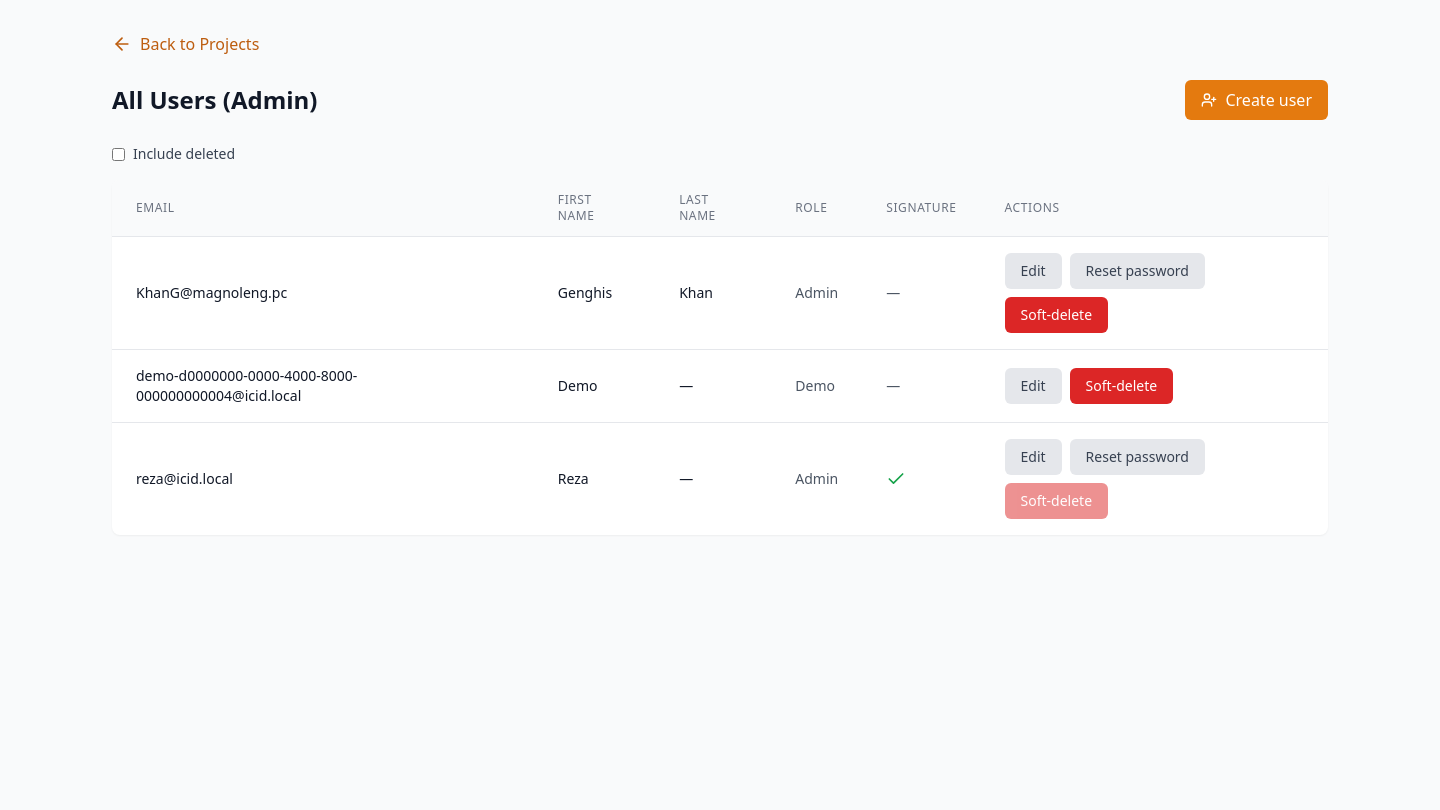
Test case: AdminUsersPage — editing a user › turns the admin box off on the admin's own row, and leaves it on for another admin's
Click the button "Edit" in the row of "reza@icid.local". click: [1033, 457]
box: [1004,439,1062,475]
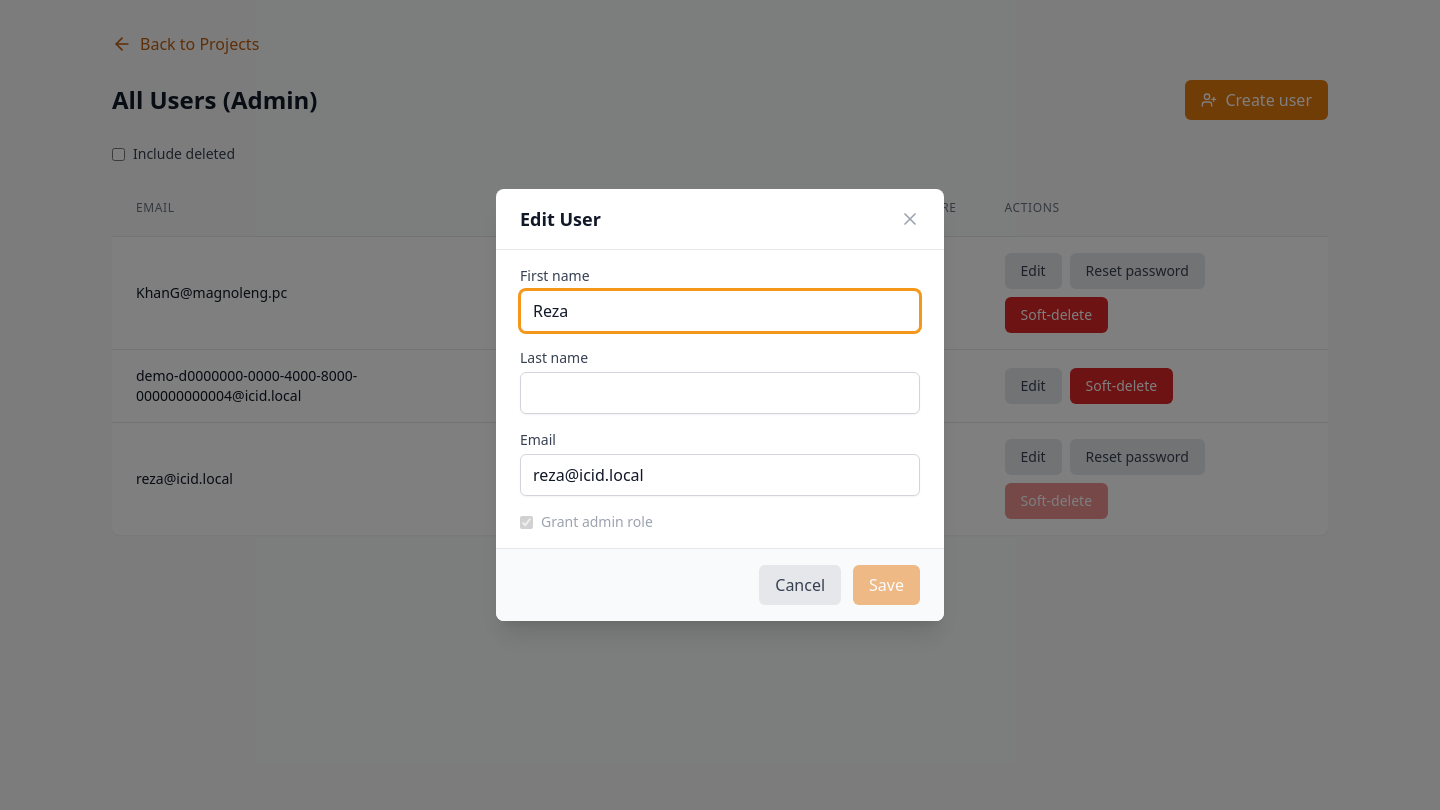
Expected: the checkbox labelled "Grant admin role" is checked, [520,516,533,528]
Expected: the checkbox labelled "Grant admin role" is disabled, [520,516,533,528]
Click the button "Cancel". click: [800, 585]
box: [759,565,841,605]
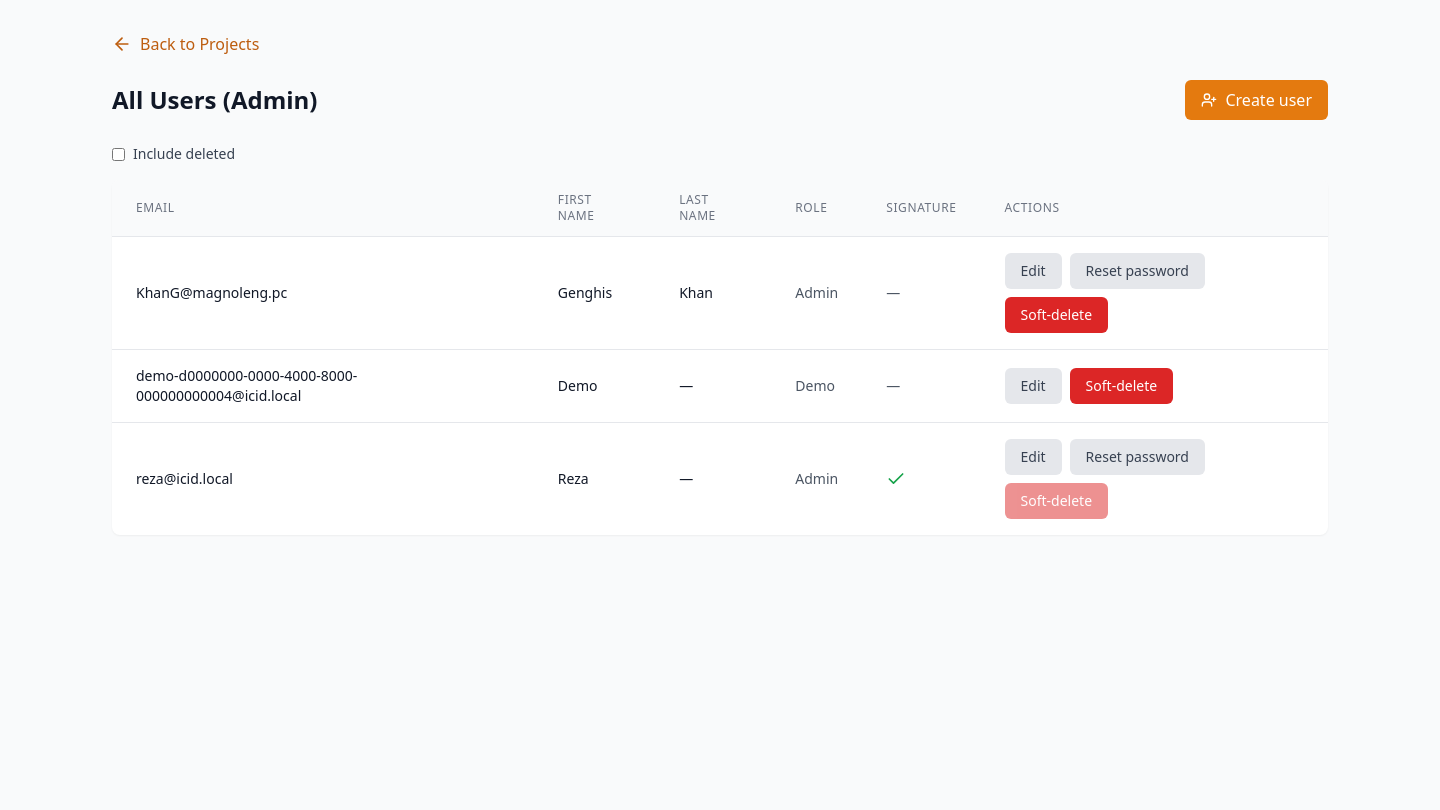
Click the button "Edit" in the row of "KhanG@magnoleng.pc". click: [1033, 271]
box: [1004,253,1062,289]
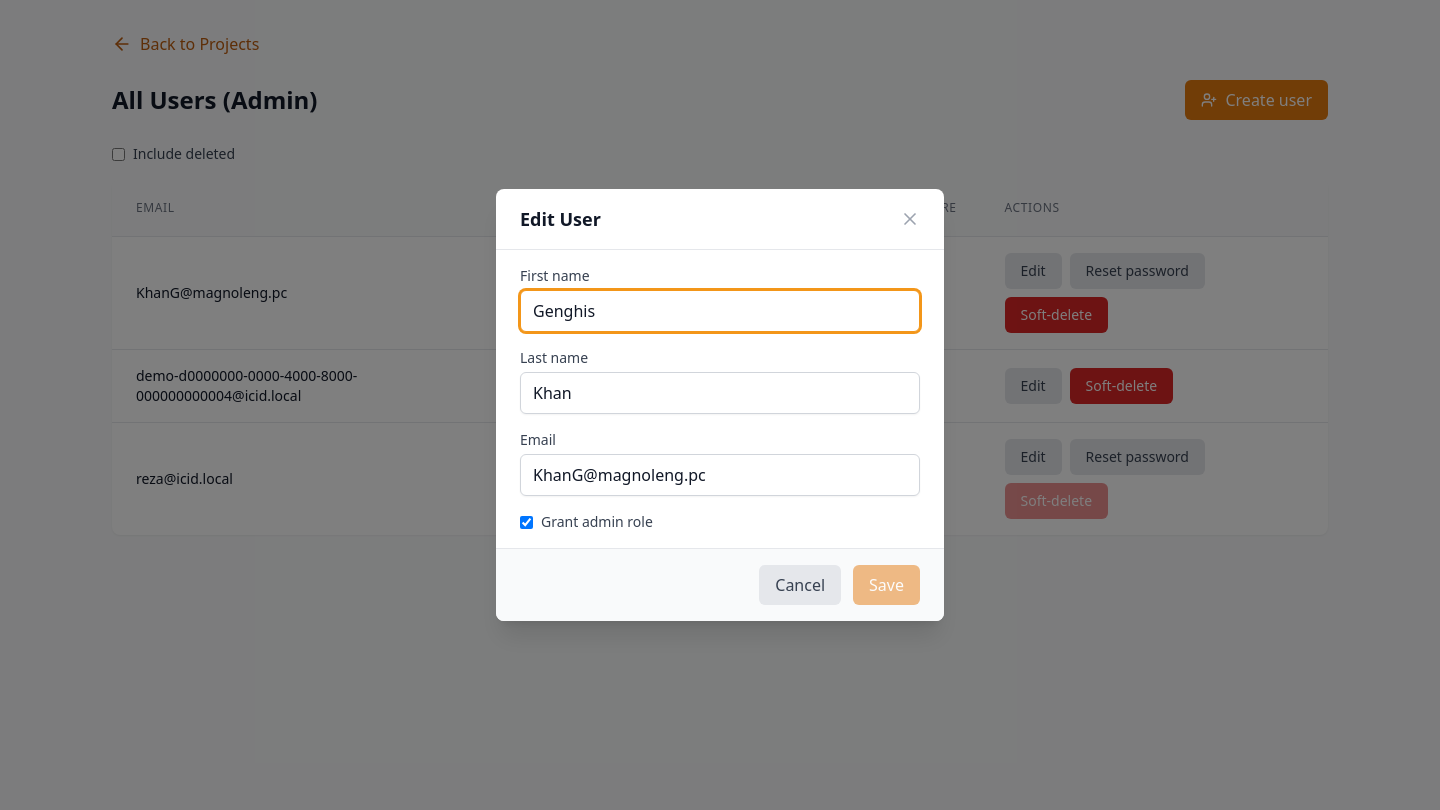
Expected: the checkbox labelled "Grant admin role" is checked, [520,516,533,528]
Expected: the checkbox labelled "Grant admin role" is enabled, [520,516,533,528]
